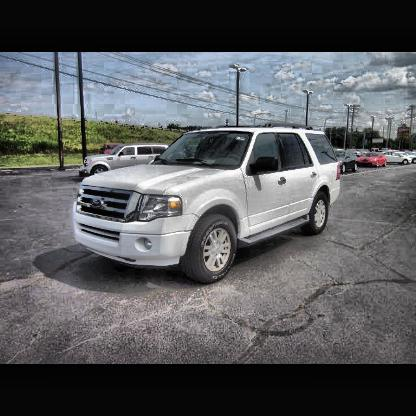Ford Expedition EL SUV 2009: (75, 130, 341, 287)
